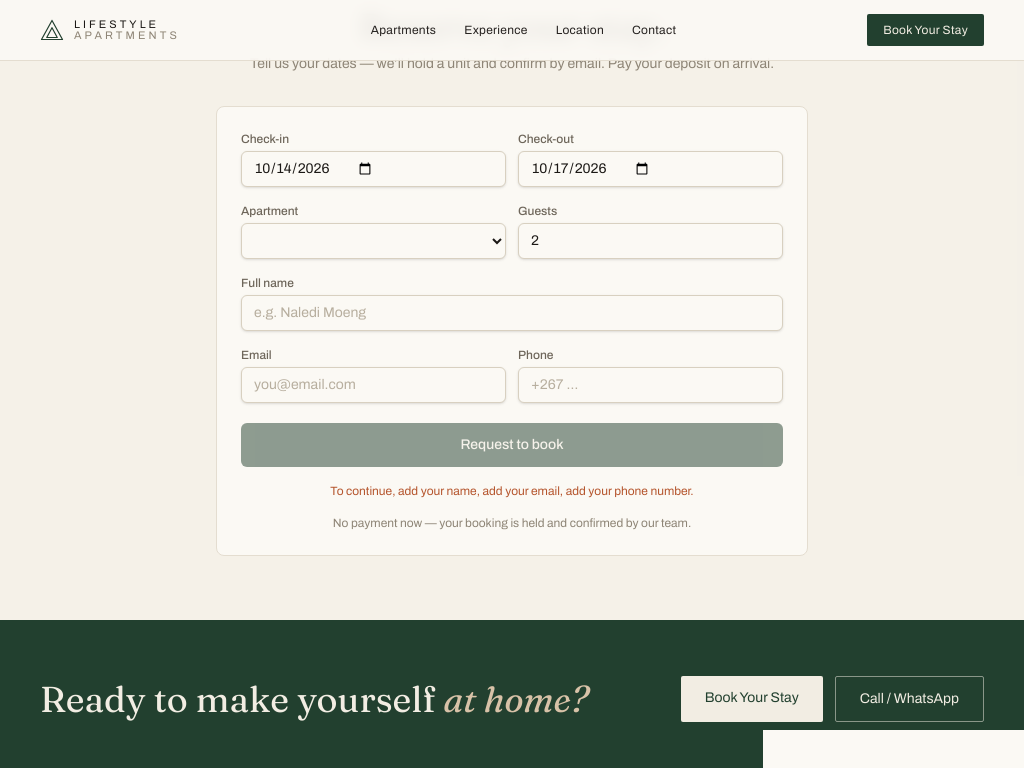
Test: StayPage › says why the booking button is disabled
(page scrolled)
Expected: the button "Request to book" is shown, [241, 423, 783, 467]
Expected: the text "To continue, add your name, add your email, add your phone number." is shown, [330, 484, 694, 498]
Step 1. Type "naledi@" into the field labelled "Email" → (374, 385), box [241, 367, 506, 403]
(page scrolled)
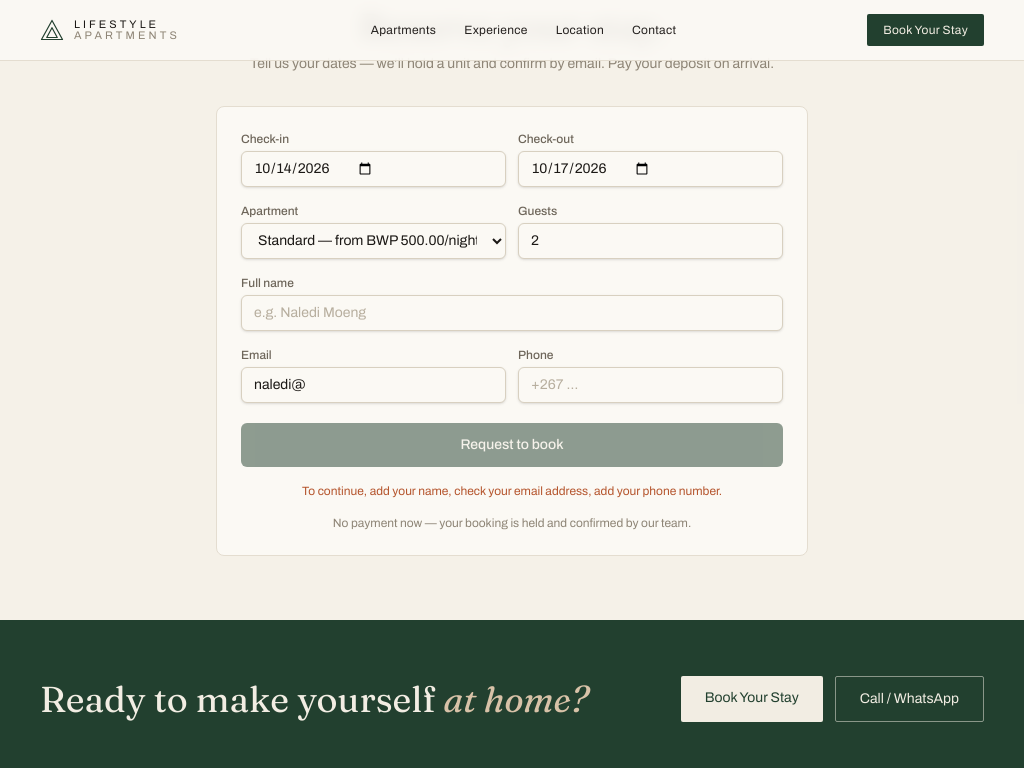
Step 2. Replace the text in the number field labelled "Guests" with "0" → (650, 241), box [518, 223, 783, 259]
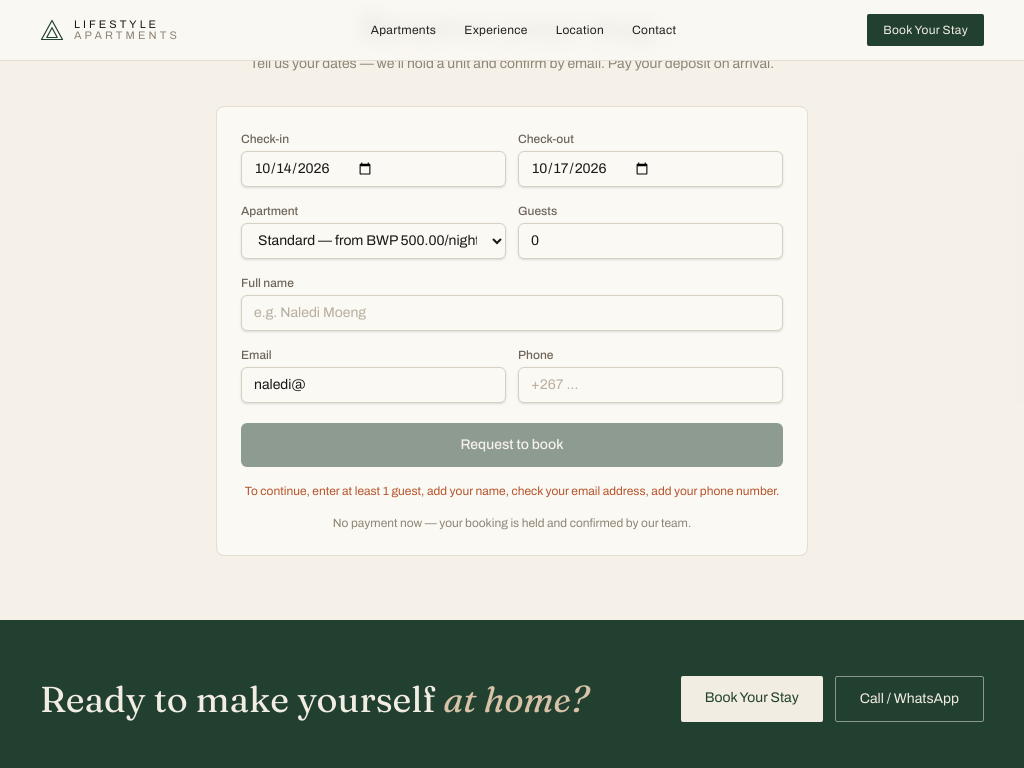
Step 3. Type "2000-01-01" into the date field labelled "Check-out" → (650, 169), box [518, 151, 783, 187]
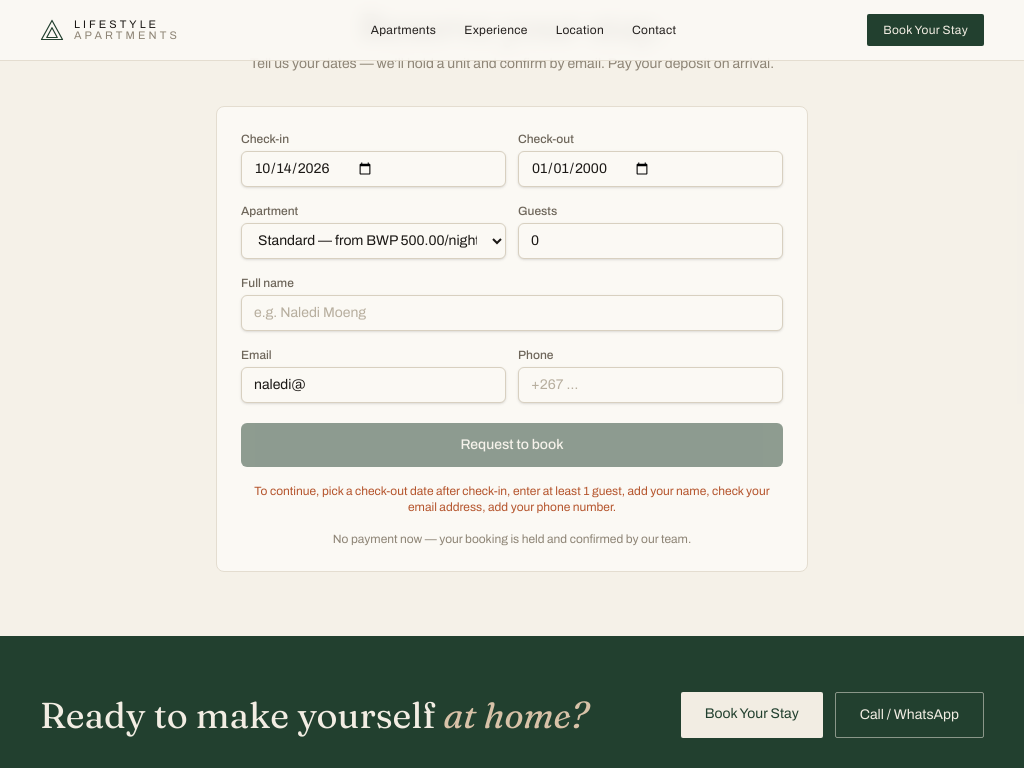
Now the text "To continue" shows "at least 1 guest", box [322, 484, 770, 514]
Now the text "To continue" shows "check your email address", box [322, 484, 770, 514]
Now the text "To continue" shows "check-out date after check-in", box [322, 484, 770, 514]
